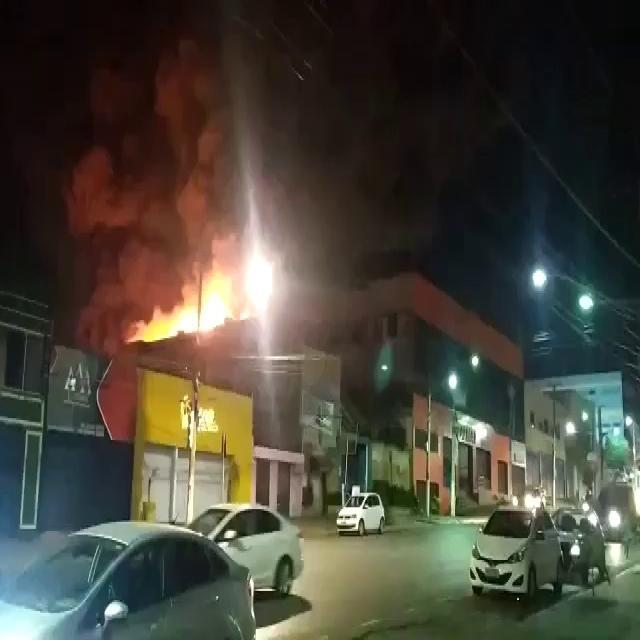Smoke: (8, 18, 454, 307)
